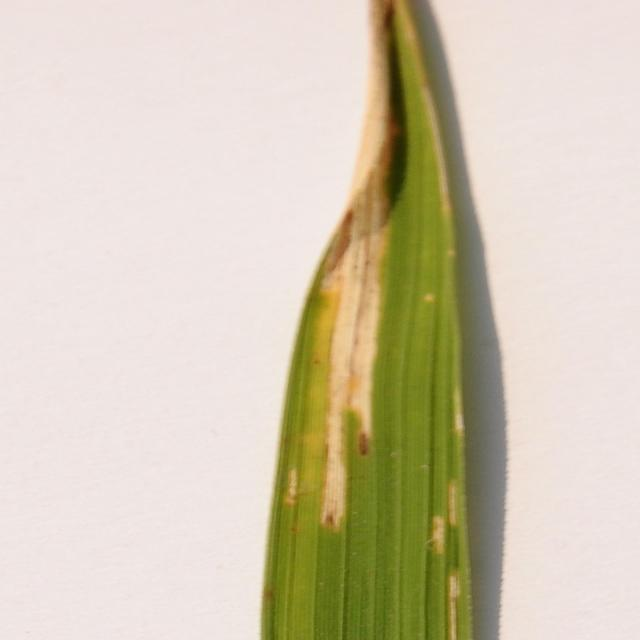Bacterial leaf blight: (232, 1, 552, 640)
